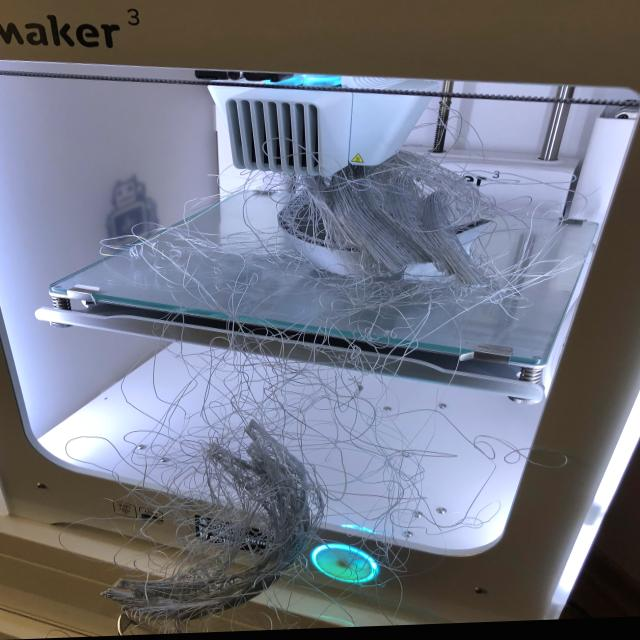spaghetti: (26, 111, 544, 639)
